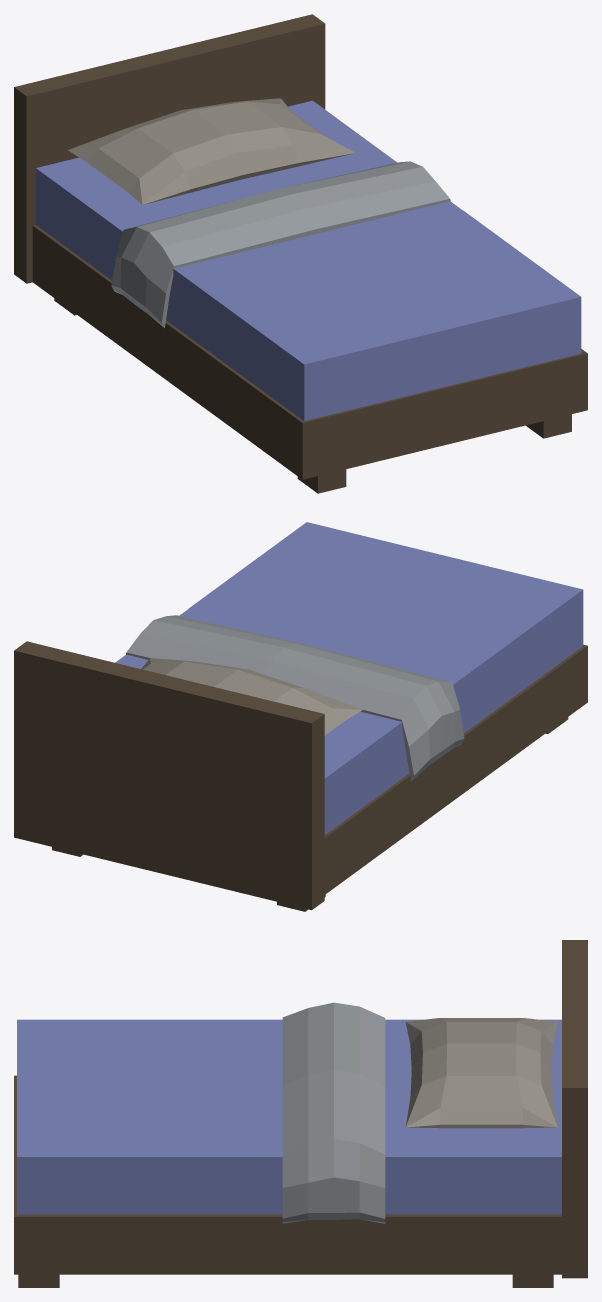
File: Bed_1A.fbx
3 views of the same model, one above another, from view 1: azimuth 30°, elevation 25°; view 2: azimuth 150°, elevation 25°; view 3: azimuth 270°, elevation 25° (orthographic).
Visible parts, largest first — view 1: polySurface2220; view 2: polySurface2220; view 3: polySurface2220.
Boxes of the visible parts, bbox=[...] form: polySurface2220: bbox=[14, 14, 587, 493]; polySurface2220: bbox=[14, 522, 587, 911]; polySurface2220: bbox=[14, 940, 587, 1287].
Bounding box in the file's own units: 1.7 × 1.09 × 2.71.
Materials: 1 (1 with a texture image).
